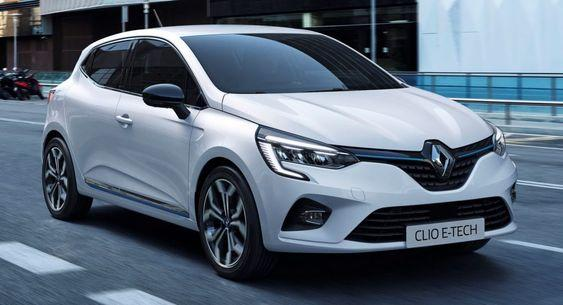Renault: (425, 137, 463, 184)
